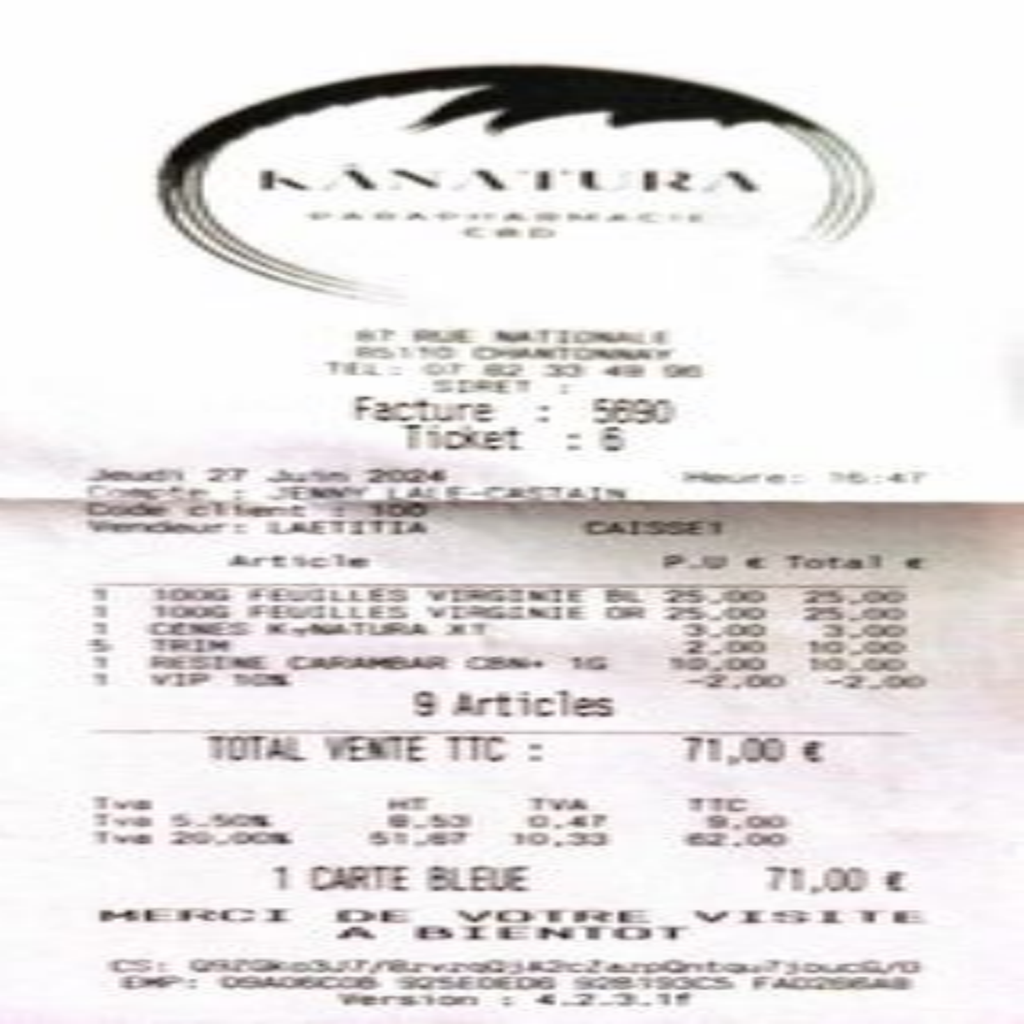recipt: (2, 0, 1018, 1009)
